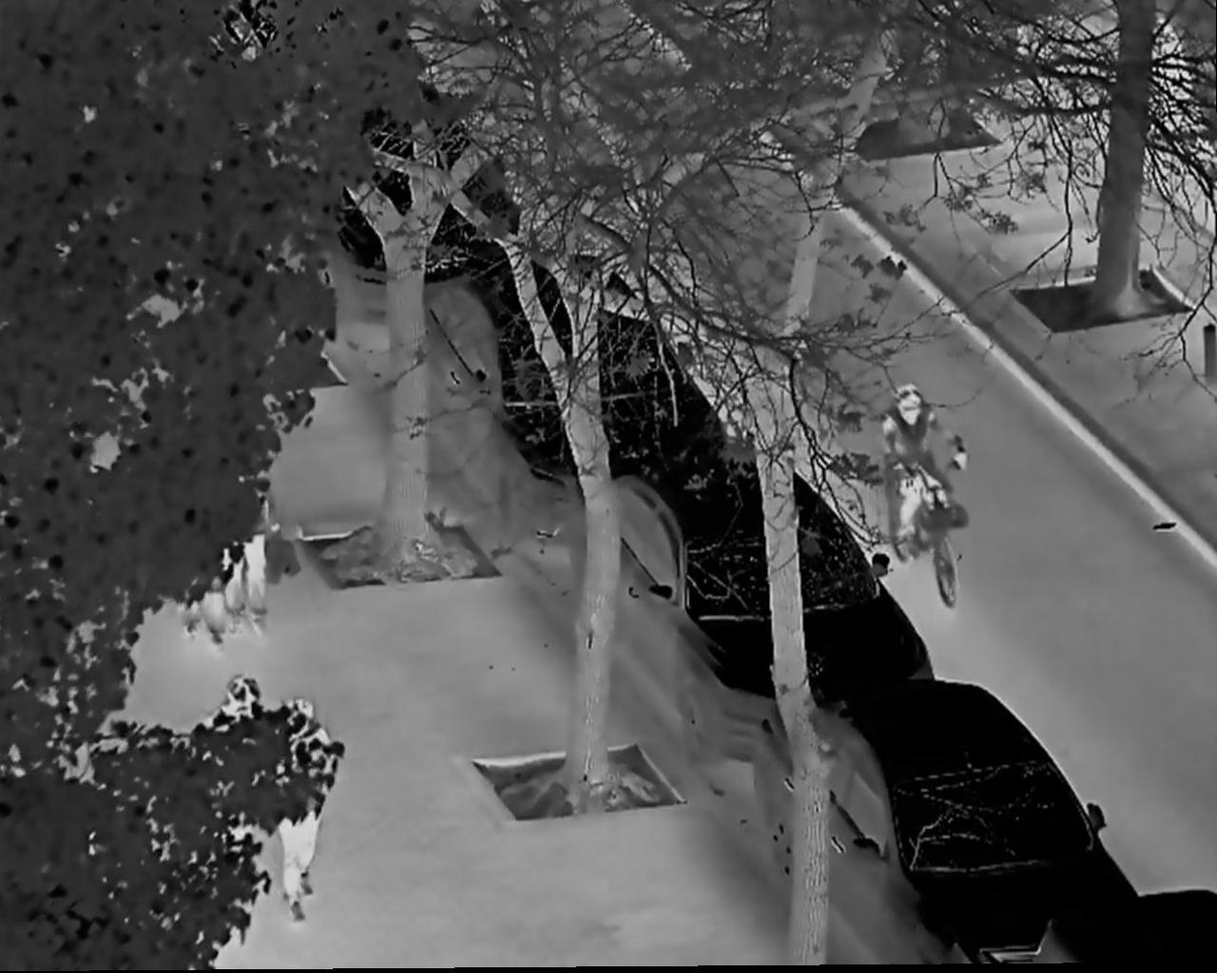person: (202, 661, 274, 908), (876, 384, 973, 544), (269, 702, 337, 923), (173, 450, 234, 649), (232, 439, 285, 651)
